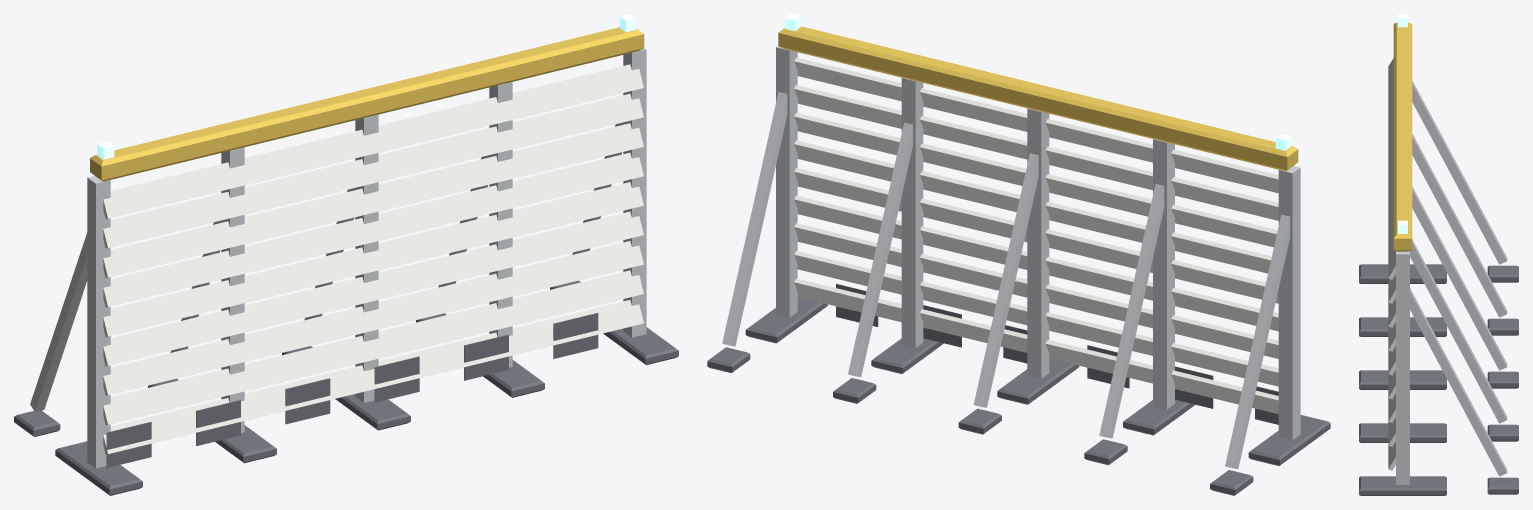
Rendered from jet_blast_fence.glb.
3 views of the same model, side by side, from view 1: azimuth 30°, elevation 25°; view 2: azimuth 150°, elevation 25°; view 3: azimuth 270°, elevation 25° (orthographic). The views are drawn at different scales.
Parts seen in each view (by area): view 1: jet-blast-fence; view 2: jet-blast-fence; view 3: jet-blast-fence.
Part boxes in pixels (bbox=[...]): jet-blast-fence: bbox=[14, 14, 678, 495]; jet-blast-fence: bbox=[707, 14, 1330, 495]; jet-blast-fence: bbox=[1359, 14, 1518, 495].
Size of the model in its own units: 8.5 by 4.66 by 2.55.
Materials: 1 (1 with a texture image).
